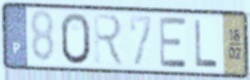7: (129, 13, 153, 68)
8: (28, 8, 59, 67)
E: (158, 16, 189, 70)
L: (193, 18, 220, 69)
O: (59, 11, 92, 67)
R: (92, 12, 126, 69)
